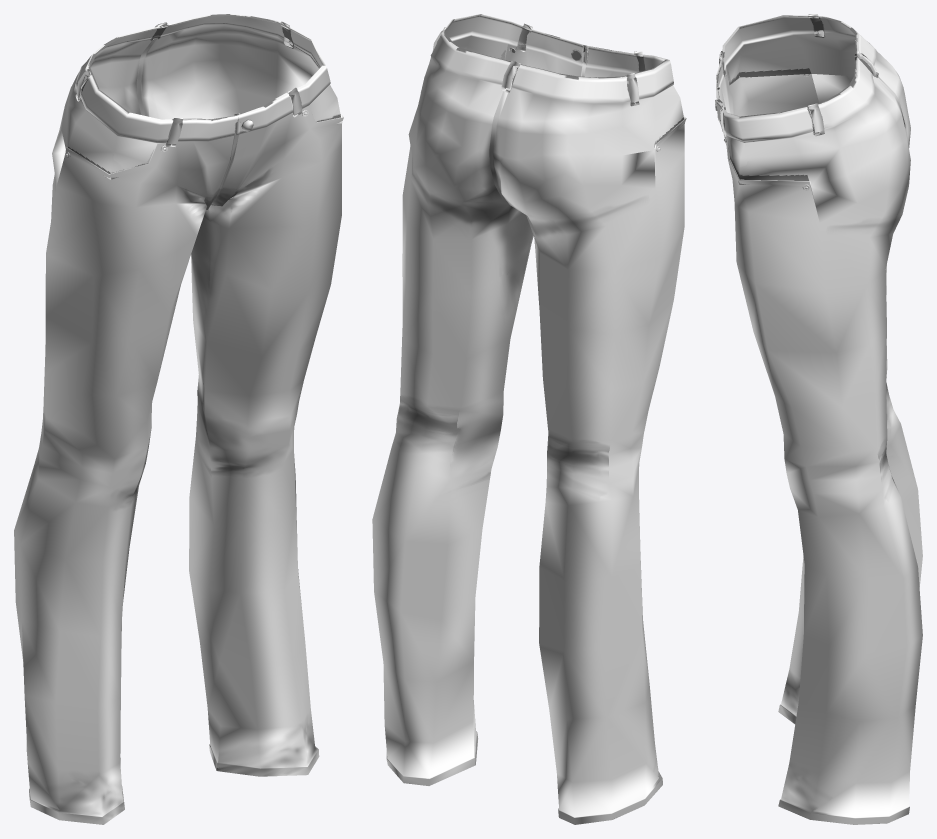
The model's file is jeans.glb.
3 renders of one model, left to right at view 1: azimuth 30°, elevation 25°; view 2: azimuth 150°, elevation 25°; view 3: azimuth 270°, elevation 25°, orthographic. The views are drawn at different scales.
Visible parts, largest first — view 1: jeans; view 2: jeans; view 3: jeans.
Part boxes in pixels (box(x1,y1,x2,y2)): jeans: box(14, 14, 343, 824); jeans: box(372, 14, 686, 824); jeans: box(715, 14, 922, 824).
Bounding box in the file's own units: 0.3806 × 1 × 0.2623.
Materials: 1 (1 with a texture image).
